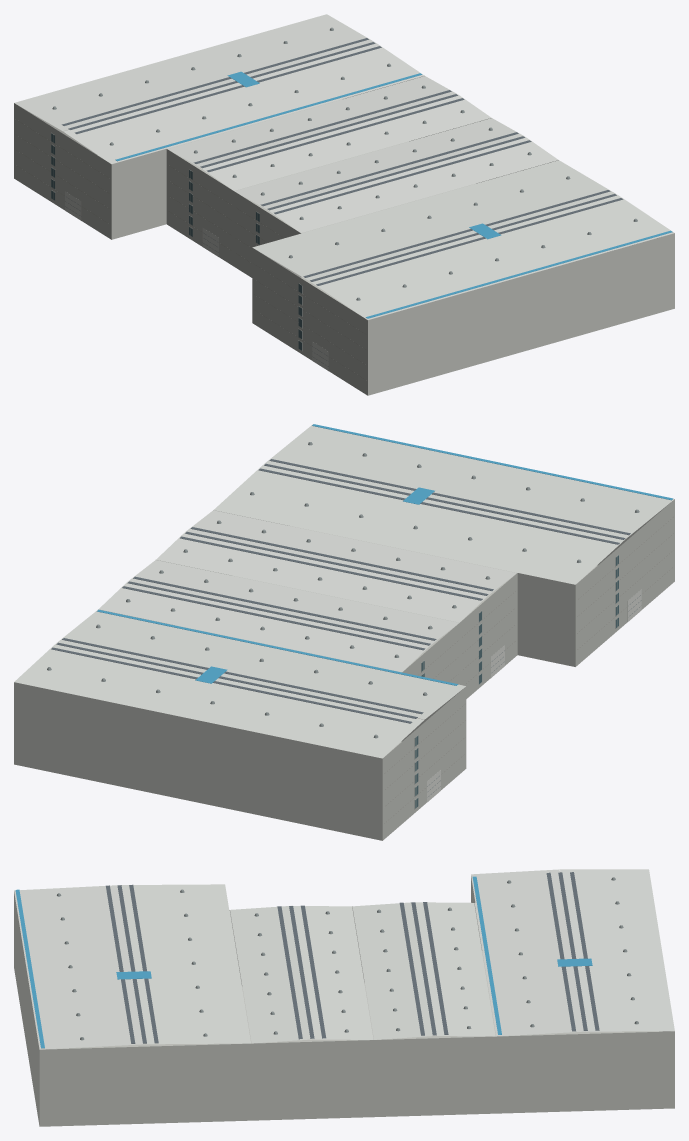
File: SEU_civil_four_span_v06.glb
3 renders of one model, top to bottom at view 1: azimuth 30°, elevation 25°; view 2: azimuth 150°, elevation 25°; view 3: azimuth 270°, elevation 25°, orthographic. The views are drawn at different scales.
Visible parts, largest first — view 1: SEU_B_OSMWAY_1056927514_V06__body, SEU_B_OSMWAY_1056927514_V06__roof_0, SEU_B_OSMWAY_1056927514_V06__roof_3, SEU_B_OSMWAY_1056927514_V06__roof_1, SEU_B_OSMWAY_1056927514_V06__roof_2, SEU_B_OSMWAY_1056927514_V06__roof_ridge_3, SEU_B_OSMWAY_1056927514_V06__roof_ridge_0, SEU_B_OSMWAY_1056927514_V06__roof_ridge_1, SEU_B_OSMWAY_1056927514_V06__roof_ridge_2, SEU_B_OSMWAY_1056927514_V06__roof_blue_bands_3, SEU_B_OSMWAY_1056927514_V06__roof_blue_bands_0; view 2: SEU_B_OSMWAY_1056927514_V06__body, SEU_B_OSMWAY_1056927514_V06__roof_0, SEU_B_OSMWAY_1056927514_V06__roof_3, SEU_B_OSMWAY_1056927514_V06__roof_1, SEU_B_OSMWAY_1056927514_V06__roof_2, SEU_B_OSMWAY_1056927514_V06__roof_ridge_0, SEU_B_OSMWAY_1056927514_V06__roof_ridge_3, SEU_B_OSMWAY_1056927514_V06__roof_ridge_1, SEU_B_OSMWAY_1056927514_V06__roof_ridge_2, SEU_B_OSMWAY_1056927514_V06__roof_blue_bands_0, SEU_B_OSMWAY_1056927514_V06__roof_blue_bands_3; view 3: SEU_B_OSMWAY_1056927514_V06__body, SEU_B_OSMWAY_1056927514_V06__roof_0, SEU_B_OSMWAY_1056927514_V06__roof_3, SEU_B_OSMWAY_1056927514_V06__roof_2, SEU_B_OSMWAY_1056927514_V06__roof_1, SEU_B_OSMWAY_1056927514_V06__roof_ridge_3, SEU_B_OSMWAY_1056927514_V06__roof_ridge_0, SEU_B_OSMWAY_1056927514_V06__roof_ridge_2, SEU_B_OSMWAY_1056927514_V06__roof_ridge_1, SEU_B_OSMWAY_1056927514_V06__roof_blue_bands_0, SEU_B_OSMWAY_1056927514_V06__roof_blue_bands_3.
Part boxes in pixels (x1,y1,x2,y2): SEU_B_OSMWAY_1056927514_V06__body: (14,76,674,395); SEU_B_OSMWAY_1056927514_V06__roof_0: (252,160,674,319); SEU_B_OSMWAY_1056927514_V06__roof_3: (14,14,424,164); SEU_B_OSMWAY_1056927514_V06__roof_1: (234,118,558,232); SEU_B_OSMWAY_1056927514_V06__roof_2: (167,76,491,190); SEU_B_OSMWAY_1056927514_V06__roof_ridge_3: (62,38,381,133); SEU_B_OSMWAY_1056927514_V06__roof_ridge_0: (303,190,623,285); SEU_B_OSMWAY_1056927514_V06__roof_ridge_1: (261,132,531,214); SEU_B_OSMWAY_1056927514_V06__roof_ridge_2: (194,90,464,171); SEU_B_OSMWAY_1056927514_V06__roof_blue_bands_3: (115,71,422,161); SEU_B_OSMWAY_1056927514_V06__roof_blue_bands_0: (366,223,672,318); SEU_B_OSMWAY_1056927514_V06__body: (14,499,674,840); SEU_B_OSMWAY_1056927514_V06__roof_0: (214,424,674,584); SEU_B_OSMWAY_1056927514_V06__roof_3: (14,610,465,758); SEU_B_OSMWAY_1056927514_V06__roof_1: (156,510,516,622); SEU_B_OSMWAY_1056927514_V06__roof_2: (99,560,458,671); SEU_B_OSMWAY_1056927514_V06__roof_ridge_0: (258,459,630,544); SEU_B_OSMWAY_1056927514_V06__roof_ridge_3: (51,638,423,723); SEU_B_OSMWAY_1056927514_V06__roof_ridge_1: (180,527,493,600); SEU_B_OSMWAY_1056927514_V06__roof_ridge_2: (122,576,436,650); SEU_B_OSMWAY_1056927514_V06__roof_blue_bands_0: (312,424,673,504); SEU_B_OSMWAY_1056927514_V06__roof_blue_bands_3: (97,609,458,685); SEU_B_OSMWAY_1056927514_V06__body: (14,872,674,1126); SEU_B_OSMWAY_1056927514_V06__roof_0: (14,884,250,1049); SEU_B_OSMWAY_1056927514_V06__roof_3: (471,869,674,1036); SEU_B_OSMWAY_1056927514_V06__roof_2: (352,902,495,1039); SEU_B_OSMWAY_1056927514_V06__roof_1: (230,905,373,1043); SEU_B_OSMWAY_1056927514_V06__roof_ridge_3: (546,872,599,1031); SEU_B_OSMWAY_1056927514_V06__roof_ridge_0: (106,884,158,1043); SEU_B_OSMWAY_1056927514_V06__roof_ridge_2: (399,902,448,1035); SEU_B_OSMWAY_1056927514_V06__roof_ridge_1: (277,905,326,1039); SEU_B_OSMWAY_1056927514_V06__roof_blue_bands_0: (15,889,151,1048); SEU_B_OSMWAY_1056927514_V06__roof_blue_bands_3: (472,876,592,1034).
Size of the model in its own units: 74.67 by 15.53 by 116.
